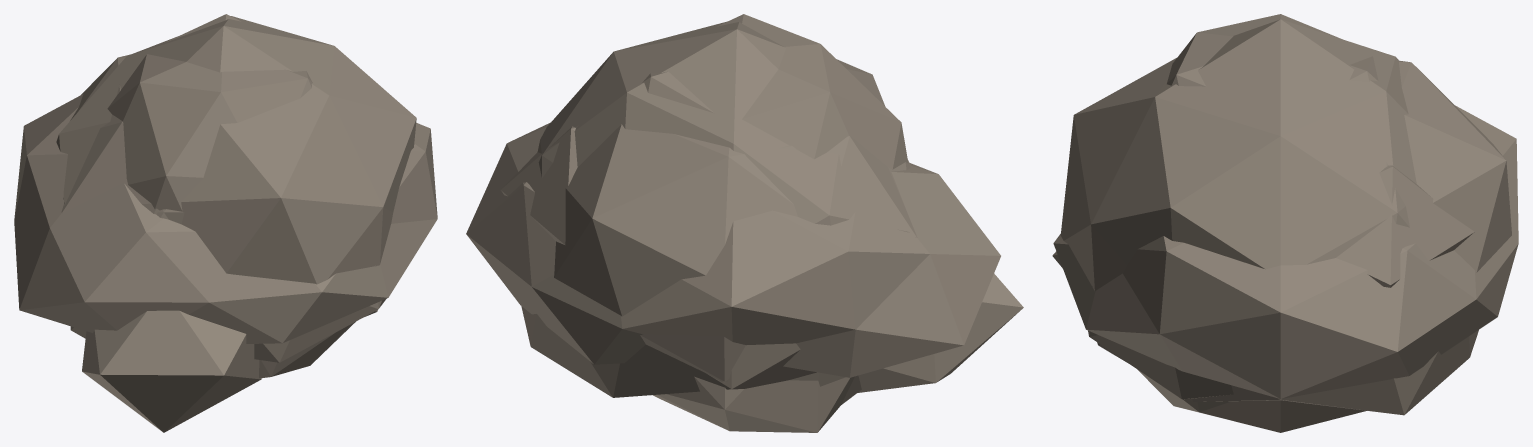
File: Rocks.fbx
3 renders of one model, left to right at view 1: azimuth 30°, elevation 25°; view 2: azimuth 150°, elevation 25°; view 3: azimuth 270°, elevation 25°, orthographic. The views are drawn at different scales.
Visible parts, largest first — view 1: Rock_B, Rock_D, Rock_C, Rock_A; view 2: Rock_D, Rock_B, Rock_A, Rock_C; view 3: Rock_B, Rock_D, Rock_A, Rock_C.
Boxes of the visible parts, x1=… form: Rock_B: x1=56, y1=16, x2=416, y2=432; Rock_D: x1=14, y1=94, x2=437, y2=343; Rock_C: x1=70, y1=14, x2=355, y2=378; Rock_A: x1=61, y1=54, x2=385, y2=362; Rock_D: x1=466, y1=122, x2=1000, y2=377; Rock_B: x1=521, y1=21, x2=1023, y2=397; Rock_A: x1=554, y1=124, x2=917, y2=386; Rock_C: x1=575, y1=14, x2=908, y2=432; Rock_B: x1=1052, y1=19, x2=1478, y2=415; Rock_D: x1=1053, y1=105, x2=1518, y2=398; Rock_A: x1=1088, y1=60, x2=1511, y2=399; Rock_C: x1=1137, y1=14, x2=1387, y2=432.
Bounding box in the file's own units: 1.17 × 0.8903 × 0.9952.
